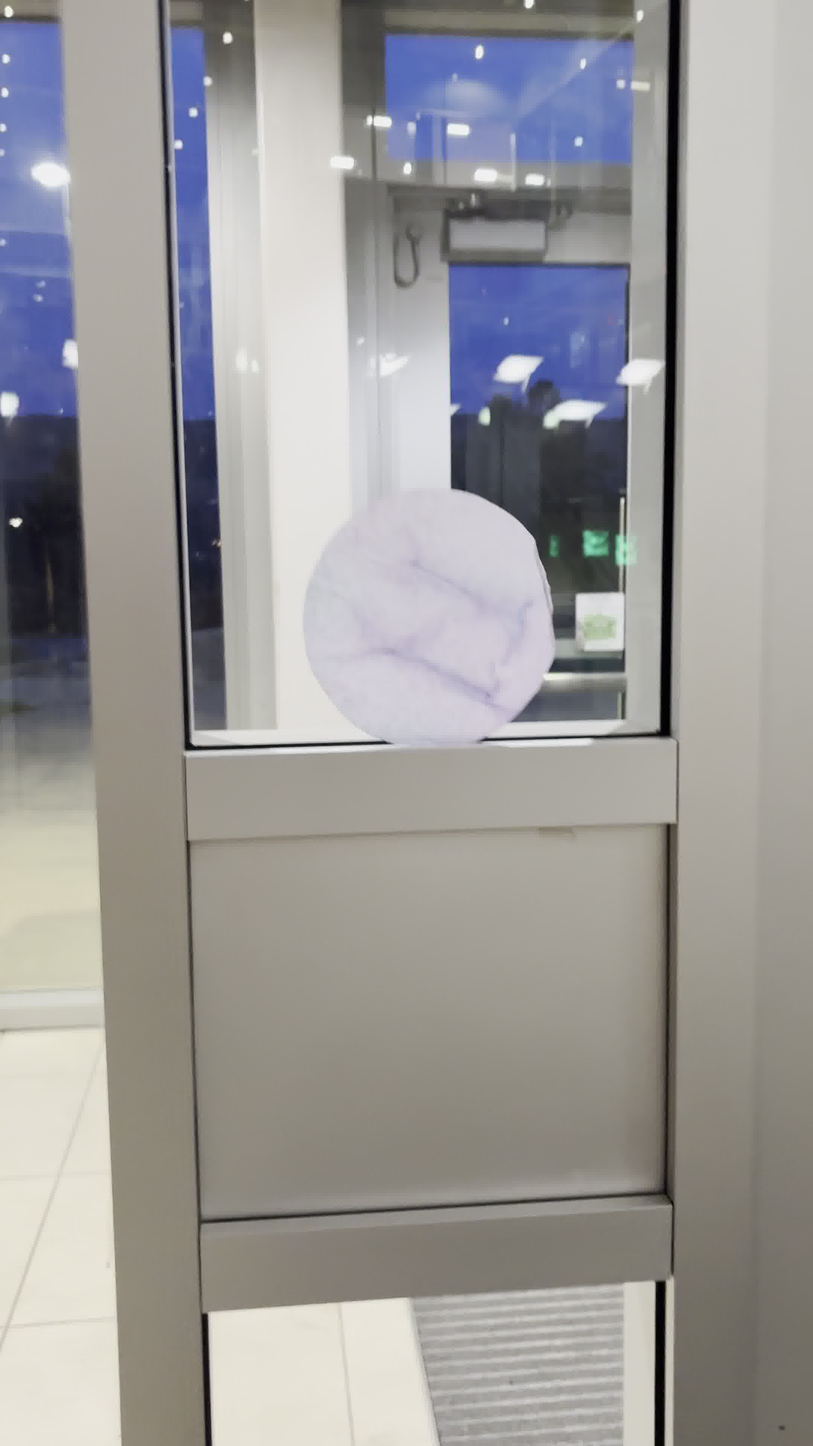Target: (304, 490, 557, 747)
